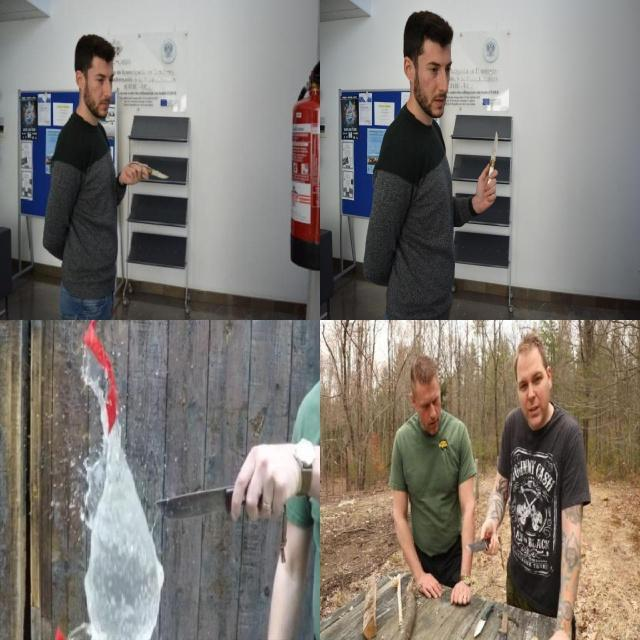-: (149, 436, 272, 527), (462, 525, 502, 558), (127, 159, 170, 181), (484, 128, 499, 188)
